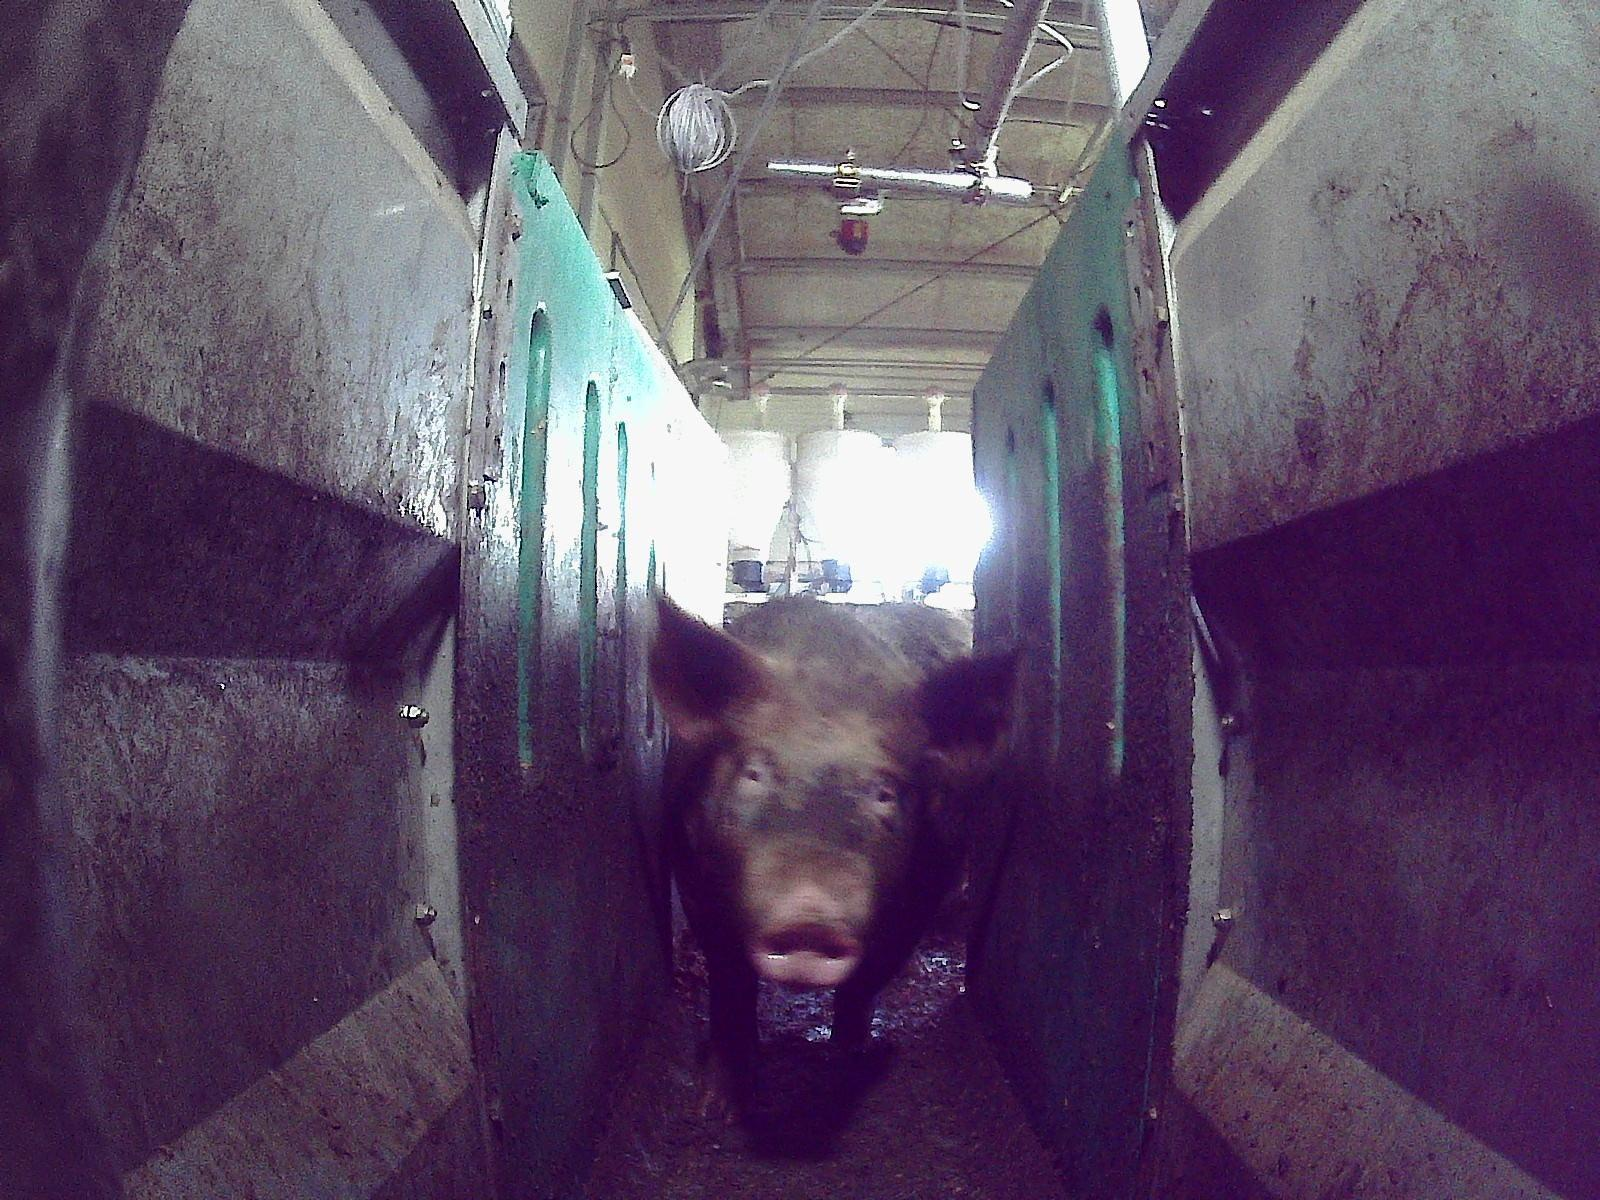Face: (694, 670, 915, 988)
